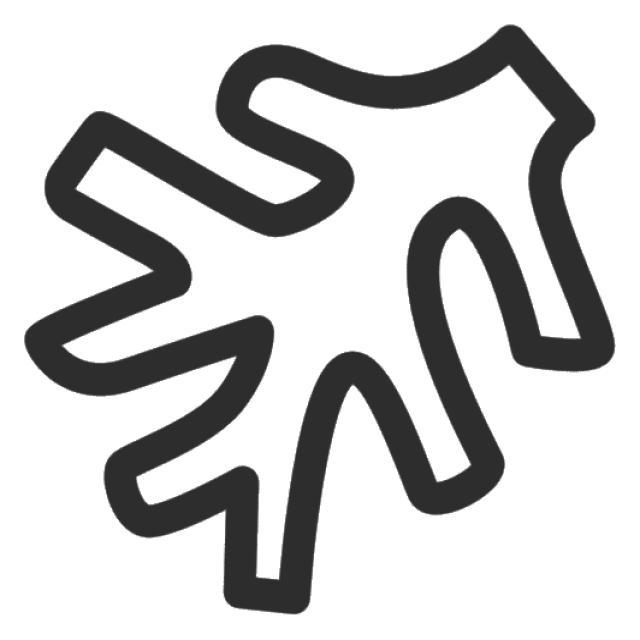coral: (15, 17, 623, 624)
